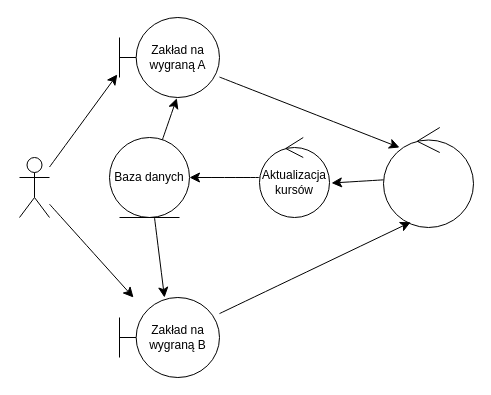
The diagram is 491 pixels wide and 395 high, and some of its shapes have lost their labels. Each missing label, with the centre of its shape:
"Klienci" goes at (x=34, y=187).
"Obliczanie kursu na podstawie zakładów" goes at (x=428, y=177).
